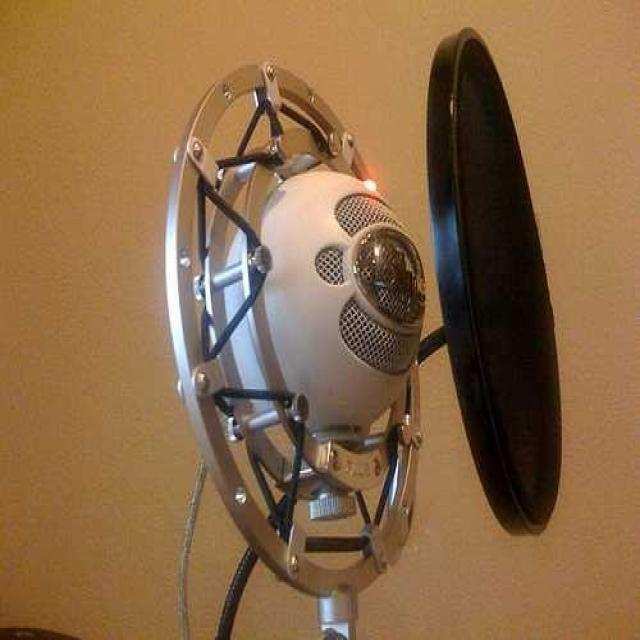microphone: (199, 121, 436, 506)
